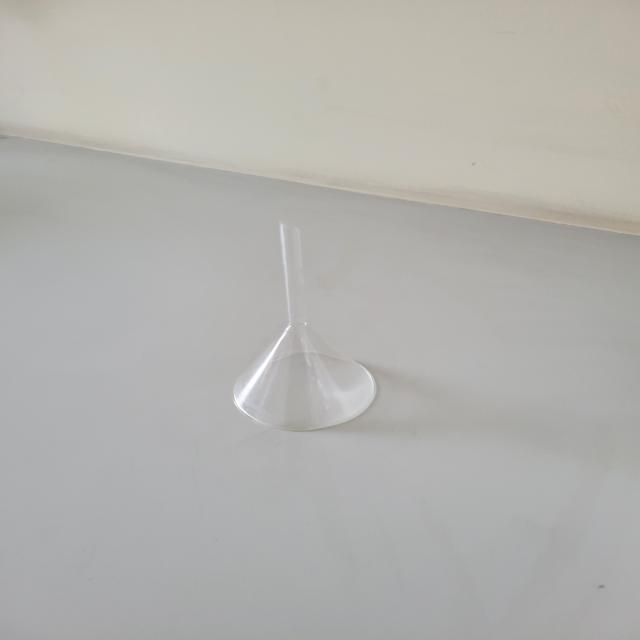Funnel: (193, 197, 412, 452)
